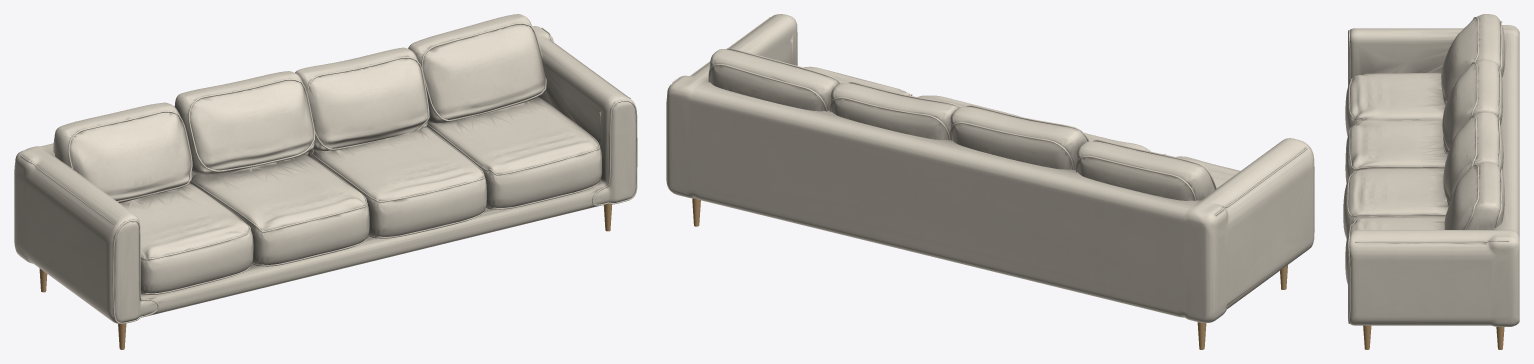
File: cuero-hueso.gltf
3 views of the same model, side by side, from view 1: azimuth 30°, elevation 25°; view 2: azimuth 150°, elevation 25°; view 3: azimuth 270°, elevation 25° (orthographic). The views are drawn at different scales.
Parts seen in each view (by area): view 1: tela_ar, madera_ar; view 2: tela_ar, madera_ar; view 3: tela_ar, madera_ar.
Boxes of the visible parts, left/top/right/bottom form: tela_ar: left=14, top=14, right=637, bottom=323; madera_ar: left=39, top=203, right=612, bottom=349; tela_ar: left=666, top=14, right=1314, bottom=322; madera_ar: left=692, top=198, right=1287, bottom=349; tela_ar: left=1343, top=14, right=1519, bottom=326; madera_ar: left=1363, top=325, right=1504, bottom=349.
Size of the model in its own units: 2.7 by 0.8297 by 0.9224.
2 materials, 2 textured.
